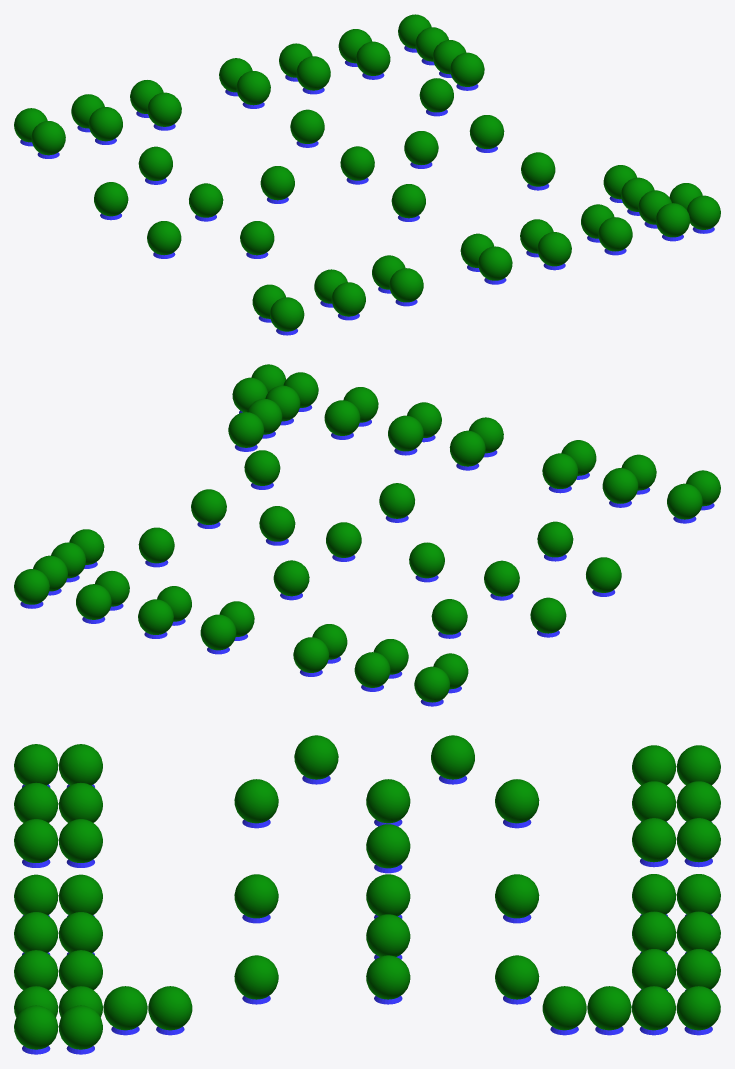
The model's file is B9 Trees.obj.
The picture shows the model from 3 angles, top to bottom: view 1: azimuth 30°, elevation 25°; view 2: azimuth 150°, elevation 25°; view 3: azimuth 270°, elevation 25°; orthographic projection. The views are drawn at different scales.
Visible parts, largest first — view 1: Mesh93 TreeTop47 Tree47 B9_Trees1 Model, Mesh45 TreeTop23 Tree23 B9_Trees1 Model, Mesh65 TreeTop33 Tree33 B9_Trees1 Model, Mesh21 TreeTop11 Tree11 B9_Trees1 Model, Mesh39 TreeTop20 Tree20 B9_Trees1 Model, Mesh49 TreeTop25 Tree25 B9_Trees1 Model, Mesh71 TreeTop36 Tree36 B9_Trees1 Model, Mesh1 TreeTop1 Tree1 B9_Trees1 Model, Mesh77 TreeTop39 Tree39 B9_Trees1 Model, Mesh89 TreeTop45 Tree45 B9_Trees1 Model, Mesh5 TreeTop3 Tree3 B9_Trees1 Model, Mesh13 TreeTop7 Tree7 B9_Trees1 Model (+35 smaller); view 2: Mesh17 TreeTop9 Tree9 B9_Trees1 Model, Mesh25 TreeTop13 Tree13 B9_Trees1 Model, Mesh29 TreeTop15 Tree15 B9_Trees1 Model, Mesh5 TreeTop3 Tree3 B9_Trees1 Model, Mesh65 TreeTop33 Tree33 B9_Trees1 Model, Mesh59 TreeTop30 Tree30 B9_Trees1 Model, Mesh67 TreeTop34 Tree34 B9_Trees1 Model, Mesh35 TreeTop18 Tree18 B9_Trees1 Model, Mesh61 TreeTop31 Tree31 B9_Trees1 Model, Mesh79 TreeTop40 Tree40 B9_Trees1 Model, Mesh31 TreeTop16 Tree16 B9_Trees1 Model, Mesh37 TreeTop19 Tree19 B9_Trees1 Model (+35 smaller); view 3: Mesh63 TreeTop32 Tree32 B9_Trees1 Model, Mesh65 TreeTop33 Tree33 B9_Trees1 Model, Mesh89 TreeTop45 Tree45 B9_Trees1 Model, Mesh59 TreeTop30 Tree30 B9_Trees1 Model, Mesh29 TreeTop15 Tree15 B9_Trees1 Model, Mesh19 TreeTop10 Tree10 B9_Trees1 Model, Mesh35 TreeTop18 Tree18 B9_Trees1 Model, Mesh41 TreeTop21 Tree21 B9_Trees1 Model, Mesh61 TreeTop31 Tree31 B9_Trees1 Model, Mesh53 TreeTop27 Tree27 B9_Trees1 Model, Mesh79 TreeTop40 Tree40 B9_Trees1 Model, Mesh85 TreeTop43 Tree43 B9_Trees1 Model (+35 smaller).
Part boxes in pixels (x1=…): Mesh93 TreeTop47 Tree47 B9_Trees1 Model: x1=296, y1=56, x2=330, y2=90; Mesh45 TreeTop23 Tree23 B9_Trees1 Model: x1=478, y1=246, x2=512, y2=280; Mesh65 TreeTop33 Tree33 B9_Trees1 Model: x1=521, y1=152, x2=555, y2=186; Mesh21 TreeTop11 Tree11 B9_Trees1 Model: x1=356, y1=41, x2=390, y2=75; Mesh39 TreeTop20 Tree20 B9_Trees1 Model: x1=340, y1=146, x2=374, y2=180; Mesh49 TreeTop25 Tree25 B9_Trees1 Model: x1=389, y1=268, x2=423, y2=302; Mesh71 TreeTop36 Tree36 B9_Trees1 Model: x1=598, y1=217, x2=632, y2=251; Mesh1 TreeTop1 Tree1 B9_Trees1 Model: x1=138, y1=146, x2=172, y2=180; Mesh77 TreeTop39 Tree39 B9_Trees1 Model: x1=655, y1=203, x2=690, y2=237; Mesh89 TreeTop45 Tree45 B9_Trees1 Model: x1=450, y1=52, x2=484, y2=86; Mesh5 TreeTop3 Tree3 B9_Trees1 Model: x1=94, y1=182, x2=128, y2=216; Mesh13 TreeTop7 Tree7 B9_Trees1 Model: x1=147, y1=92, x2=181, y2=126; Mesh17 TreeTop9 Tree9 B9_Trees1 Model: x1=200, y1=614, x2=236, y2=650; Mesh25 TreeTop13 Tree13 B9_Trees1 Model: x1=414, y1=666, x2=450, y2=702; Mesh29 TreeTop15 Tree15 B9_Trees1 Model: x1=537, y1=521, x2=573, y2=557; Mesh5 TreeTop3 Tree3 B9_Trees1 Model: x1=530, y1=597, x2=566, y2=633; Mesh65 TreeTop33 Tree33 B9_Trees1 Model: x1=244, y1=450, x2=280, y2=485; Mesh59 TreeTop30 Tree30 B9_Trees1 Model: x1=228, y1=412, x2=264, y2=447; Mesh67 TreeTop34 Tree34 B9_Trees1 Model: x1=449, y1=430, x2=485, y2=466; Mesh35 TreeTop18 Tree18 B9_Trees1 Model: x1=409, y1=542, x2=444, y2=578; Mesh61 TreeTop31 Tree31 B9_Trees1 Model: x1=379, y1=483, x2=414, y2=518; Mesh79 TreeTop40 Tree40 B9_Trees1 Model: x1=14, y1=569, x2=49, y2=604; Mesh31 TreeTop16 Tree16 B9_Trees1 Model: x1=273, y1=560, x2=309, y2=596; Mesh37 TreeTop19 Tree19 B9_Trees1 Model: x1=138, y1=527, x2=174, y2=563; Mesh63 TreeTop32 Tree32 B9_Trees1 Model: x1=294, y1=735, x2=338, y2=779; Mesh65 TreeTop33 Tree33 B9_Trees1 Model: x1=234, y1=955, x2=278, y2=999; Mesh89 TreeTop45 Tree45 B9_Trees1 Model: x1=542, y1=986, x2=586, y2=1030; Mesh59 TreeTop30 Tree30 B9_Trees1 Model: x1=148, y1=986, x2=192, y2=1030; Mesh29 TreeTop15 Tree15 B9_Trees1 Model: x1=234, y1=779, x2=278, y2=823; Mesh19 TreeTop10 Tree10 B9_Trees1 Model: x1=366, y1=779, x2=410, y2=823; Mesh35 TreeTop18 Tree18 B9_Trees1 Model: x1=366, y1=824, x2=410, y2=868; Mesh41 TreeTop21 Tree21 B9_Trees1 Model: x1=366, y1=955, x2=410, y2=999; Mesh61 TreeTop31 Tree31 B9_Trees1 Model: x1=234, y1=874, x2=278, y2=918; Mesh53 TreeTop27 Tree27 B9_Trees1 Model: x1=103, y1=986, x2=147, y2=1030; Mesh79 TreeTop40 Tree40 B9_Trees1 Model: x1=676, y1=986, x2=720, y2=1030; Mesh85 TreeTop43 Tree43 B9_Trees1 Model: x1=587, y1=986, x2=631, y2=1030.
Size of the model in its own units: 15.51 by 1.02 by 16.05.
